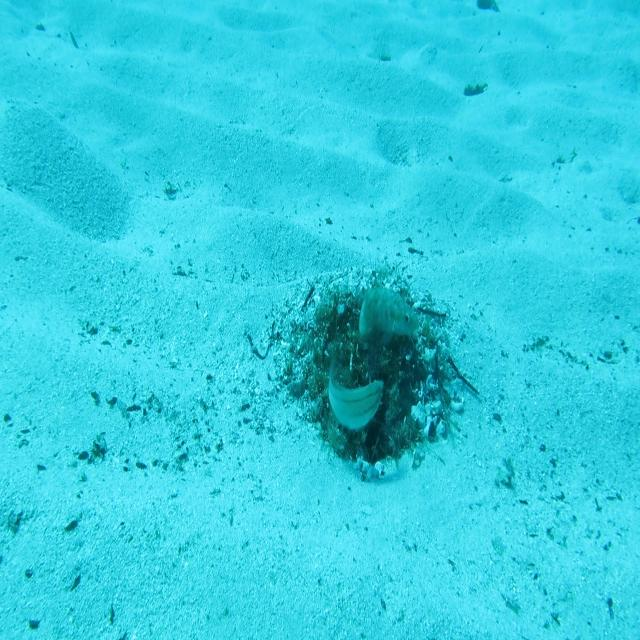SPA: (357, 282, 423, 356)
core_nest: (339, 308, 381, 354)
female: (327, 339, 386, 436)
nest: (261, 256, 471, 499)
vegetation: (459, 75, 488, 101), (473, 0, 502, 17)
